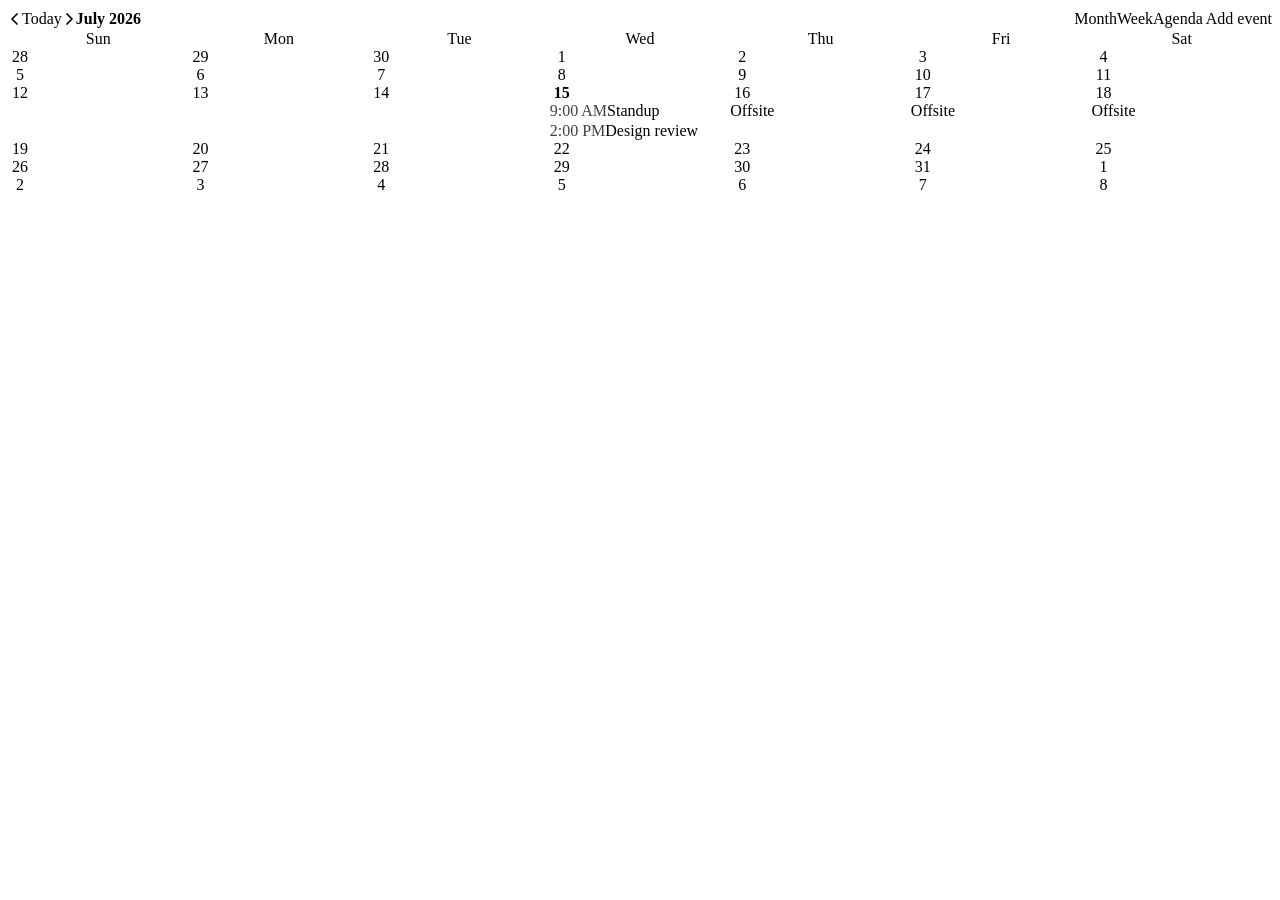
Test: CalendarView editing › opens a blank editor on the day that was double-pressed
This screenshot has width=1280, height=900.
Double-click the cell "20": (201,148) x1=193 y1=140 x2=209 y2=157
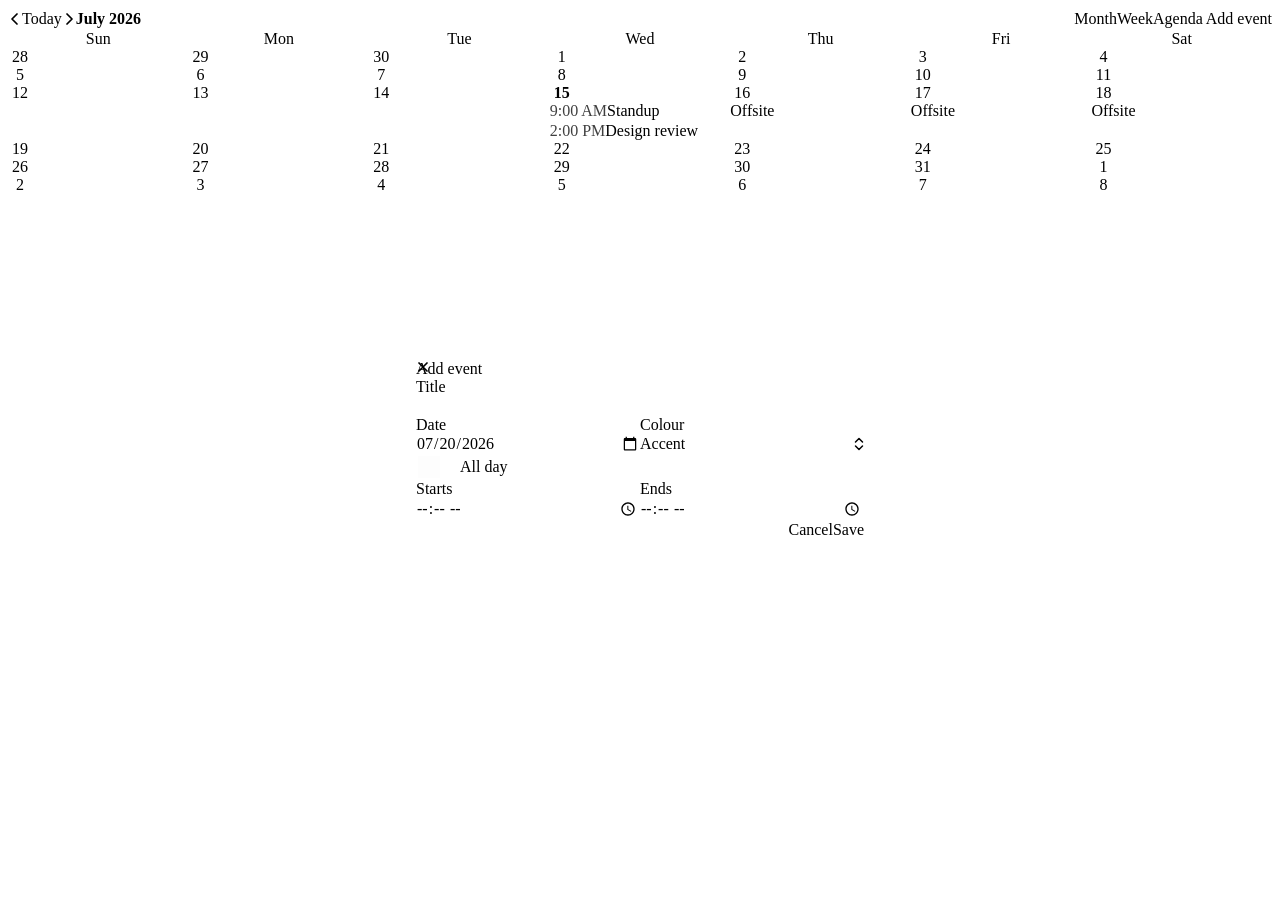
Expected: the date field labelled "Date" holds "2026-07-20", x1=416 y1=434 x2=640 y2=454
